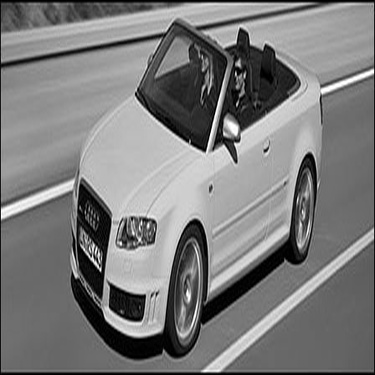car: (57, 8, 330, 367)
